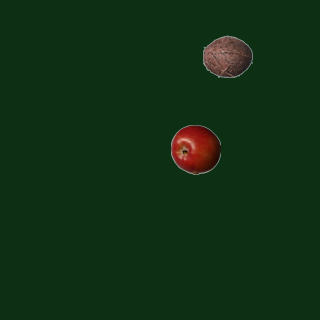Apple Braeburn: (170, 124, 220, 174)
Cocos: (202, 31, 252, 81)
